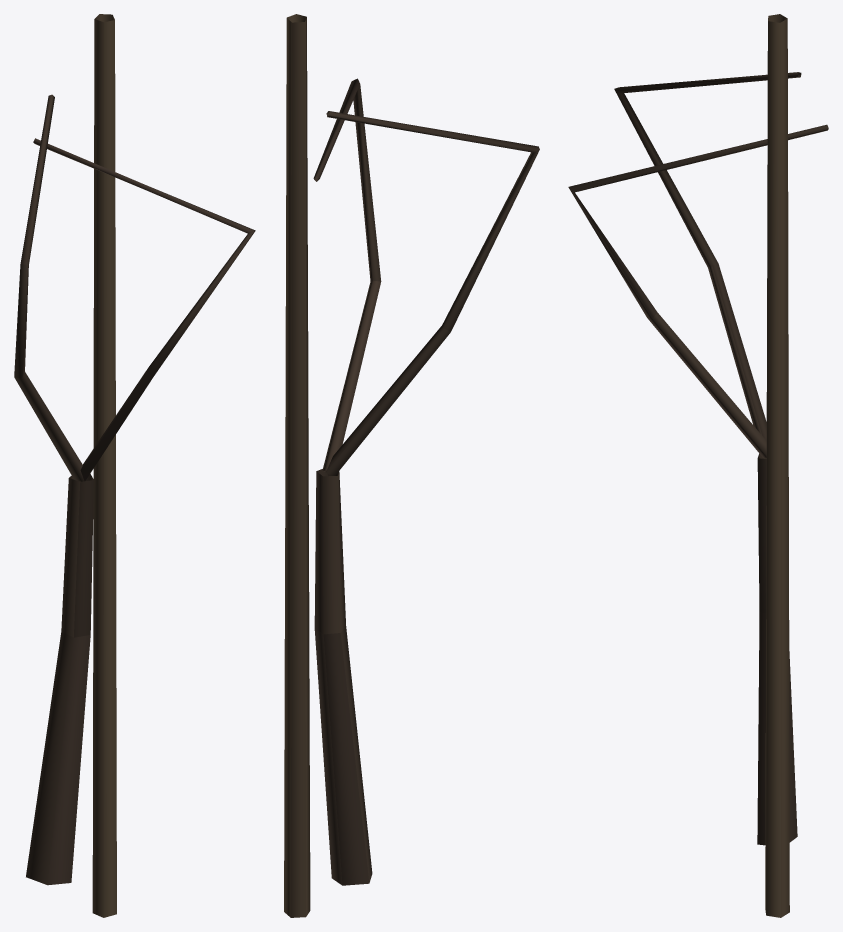
The model's file is vite-1.glb.
3 renders of one model, left to right at view 1: azimuth 30°, elevation 25°; view 2: azimuth 150°, elevation 25°; view 3: azimuth 270°, elevation 25°, orthographic.
Visible parts, largest first — view 1: vite-1; view 2: vite-1; view 3: vite-1.
Part boxes in pixels (x1,y1,x2,y2): vite-1: (14, 14, 255, 917); vite-1: (284, 14, 539, 917); vite-1: (568, 14, 828, 917).
Bounding box in the file's own units: 0.4587 × 1.85 × 0.4888.
